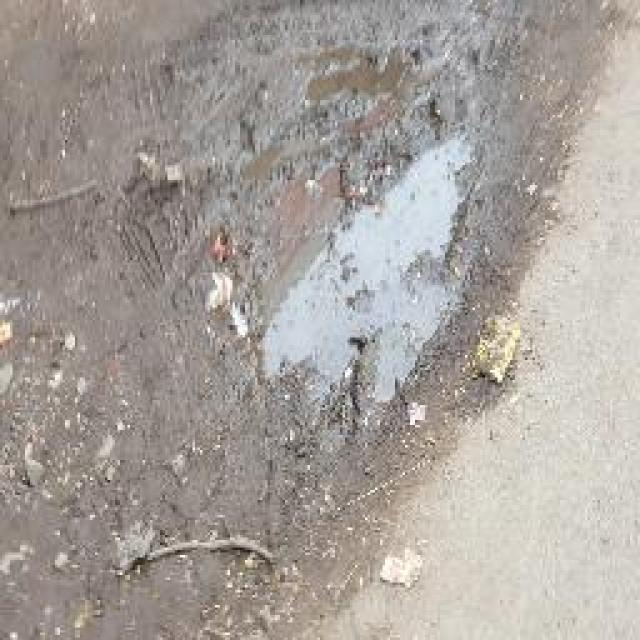waterlogging: (278, 129, 475, 413)
